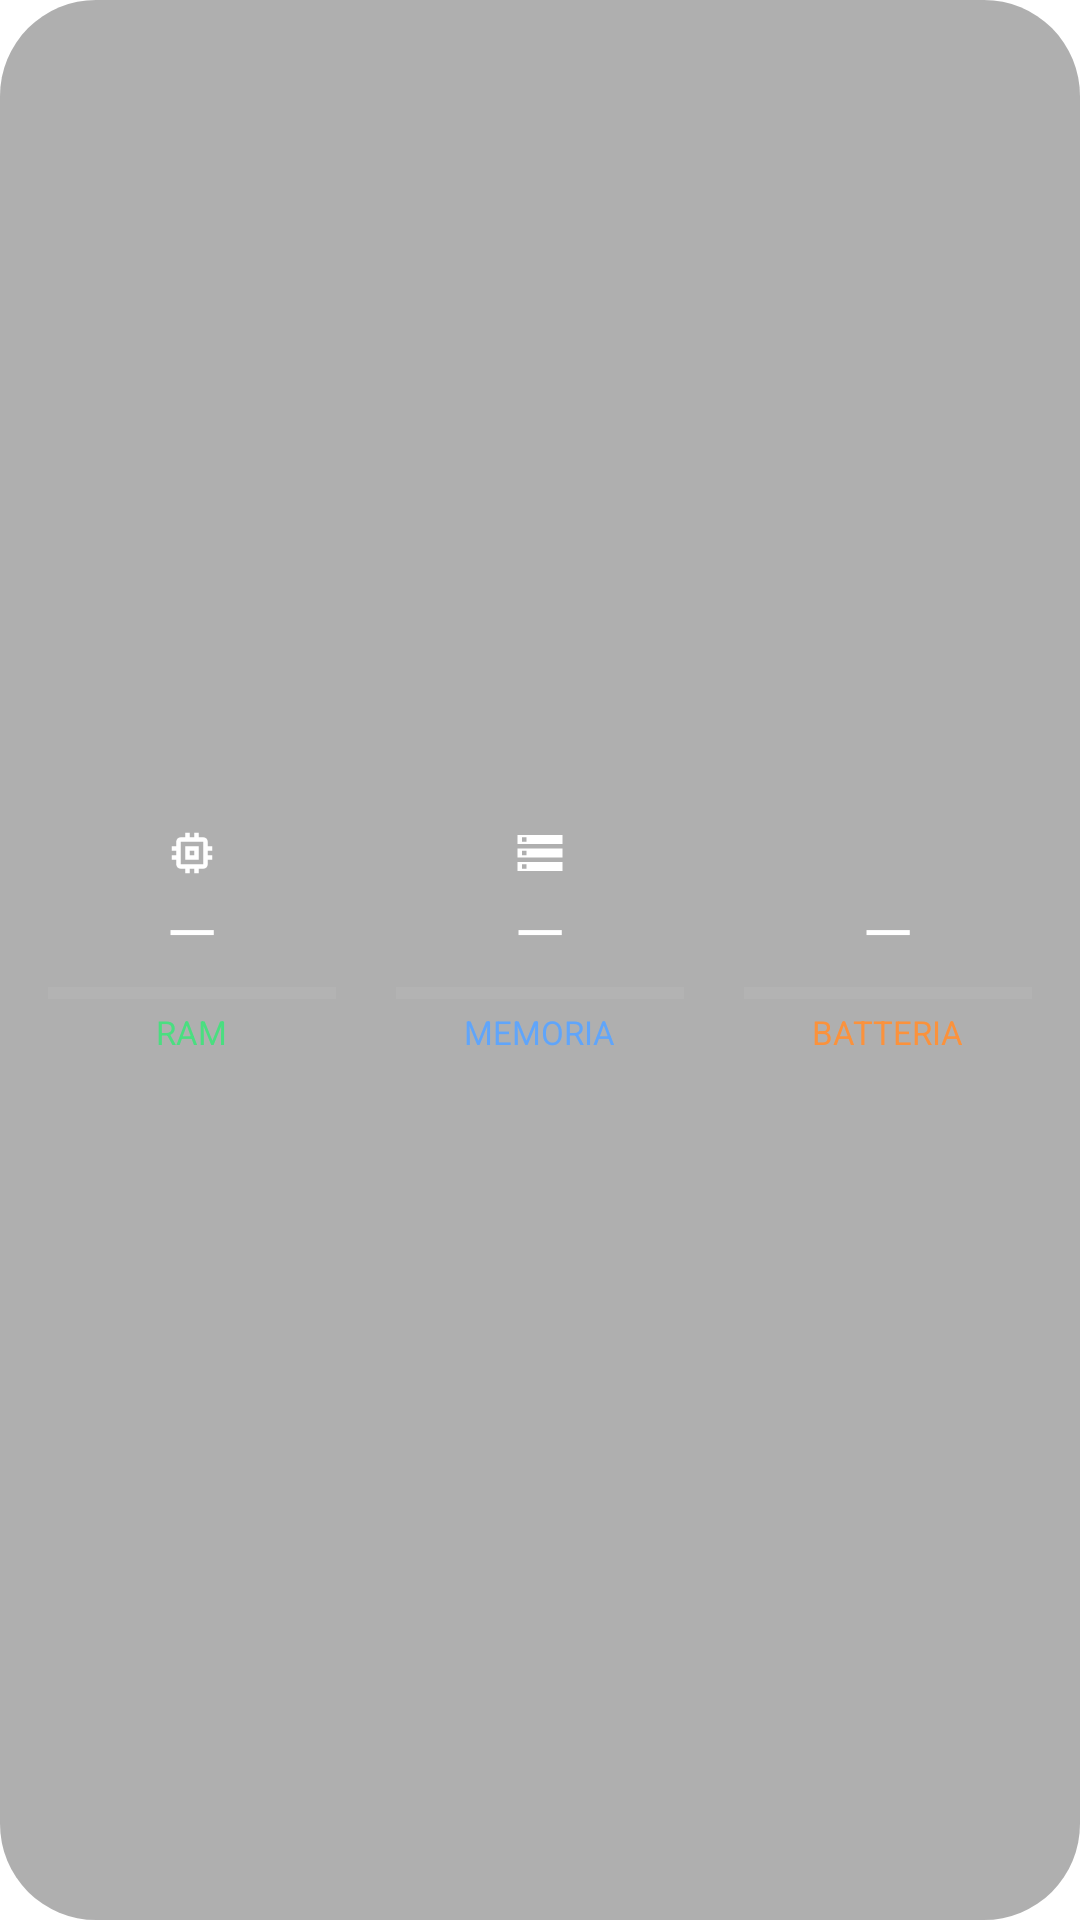

Named icons in this screenshot (1080px×1920px) and their centers, (x,y):
widget memory: (192,853)
widget storage: (540,853)
